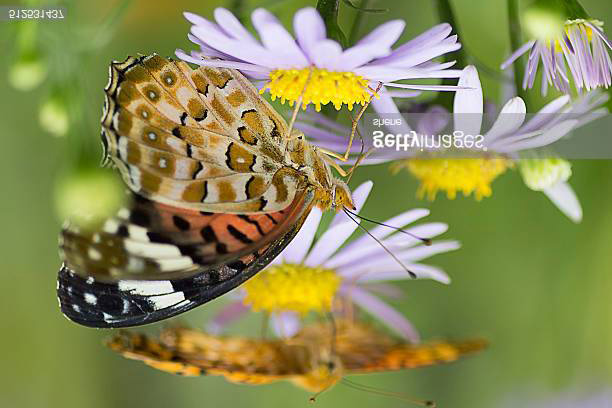Argyreus hyperbius: (49, 47, 434, 330)
butterfly: (47, 45, 432, 328)
